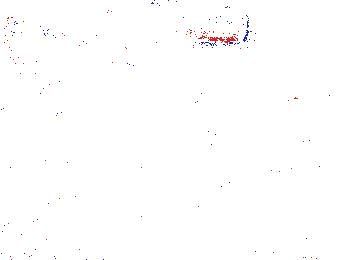moon jellyfish: (48, 1, 155, 59), (5, 7, 82, 76), (262, 97, 323, 179), (165, 1, 250, 44)
